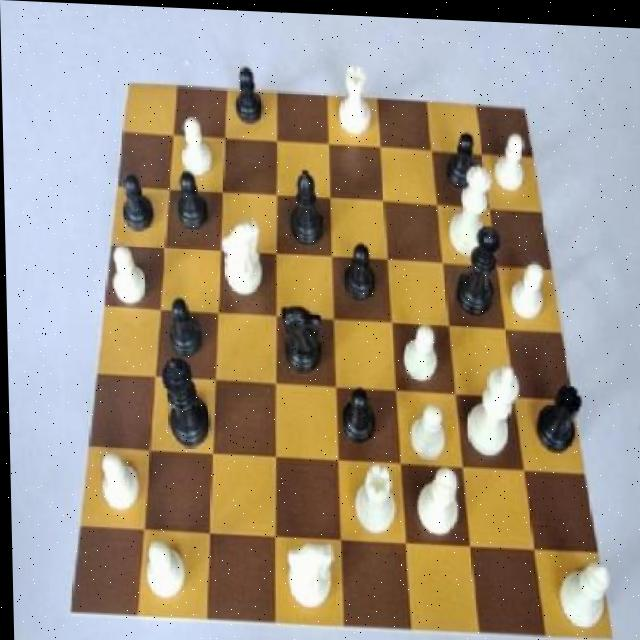bishop: (288, 164, 327, 249)
black-bishop: (158, 353, 207, 450)
black-king: (272, 294, 331, 382)
black-knight: (331, 236, 376, 303), (435, 124, 478, 193), (336, 381, 380, 446), (119, 167, 159, 233), (171, 164, 210, 231), (165, 296, 200, 361), (231, 60, 263, 122)
black-pawn: (454, 211, 507, 326)
black-queen: (521, 370, 584, 451)
black-rook: (550, 545, 612, 626), (409, 457, 463, 538)
white-bishop: (459, 357, 523, 458)
white-king: (277, 530, 337, 613), (218, 210, 265, 298)
white-knight: (138, 532, 189, 605), (91, 444, 141, 518), (106, 236, 152, 310), (395, 315, 442, 386), (404, 391, 451, 462), (506, 251, 550, 324), (172, 109, 217, 180), (492, 125, 532, 192)
white-pawn: (437, 160, 497, 264)
white-queen: (349, 452, 400, 541), (334, 55, 373, 145)
